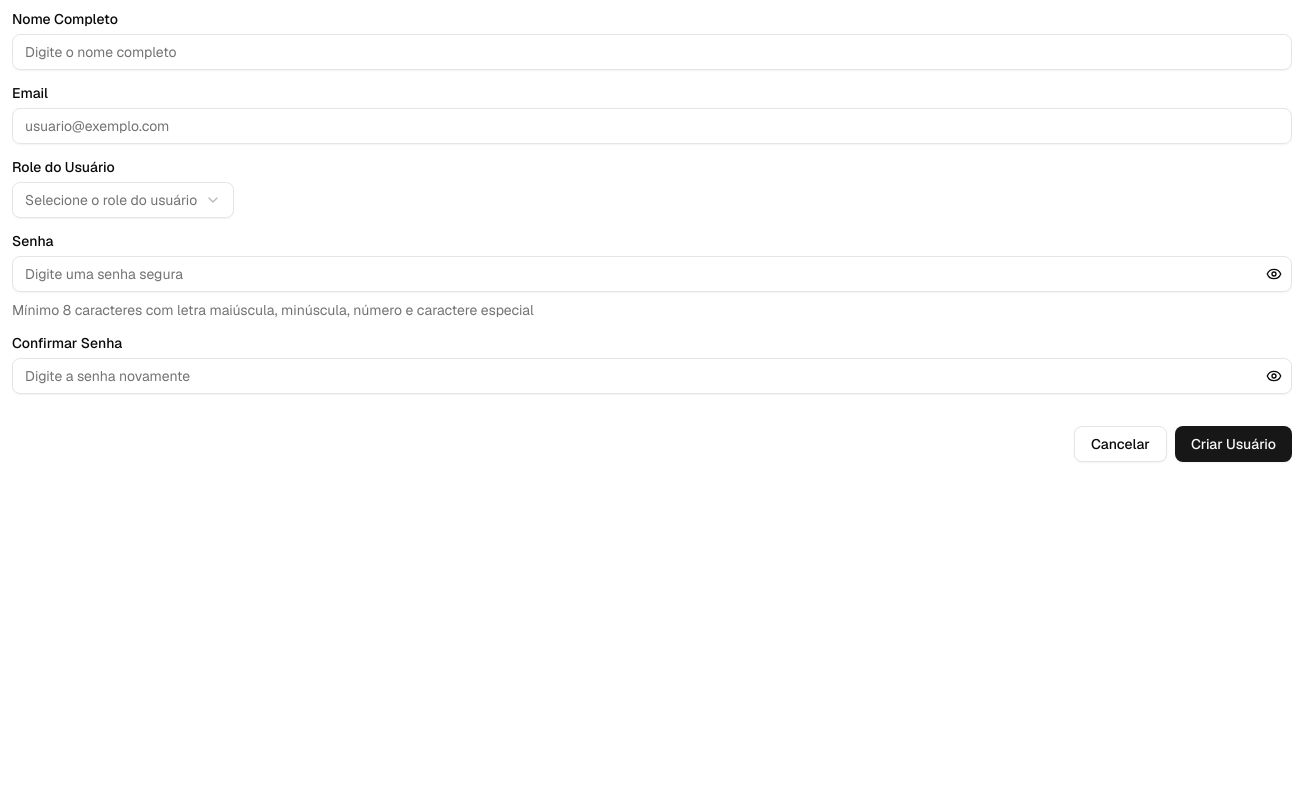
it: UserCreateForm › Form Validation › should show validation error for empty name
The width and height of the screenshot is (1304, 812).
What coordinates should you click on to do the following:
click the button "Criar Usuário"
I would click on:
 (1233, 444)
Its box is [1175, 426, 1292, 462].
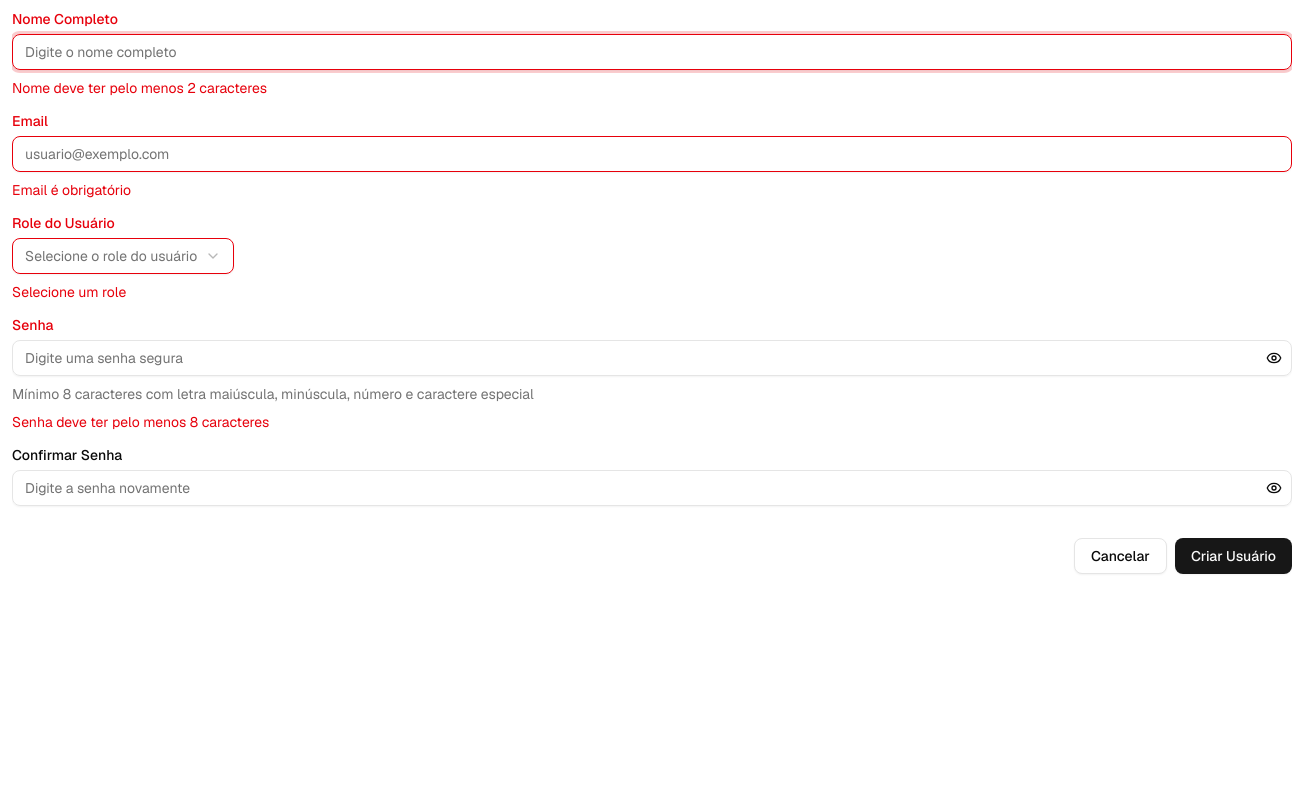
Now the text "Nome deve ter pelo menos 2 caracteres" is shown, box [12, 79, 267, 97]
